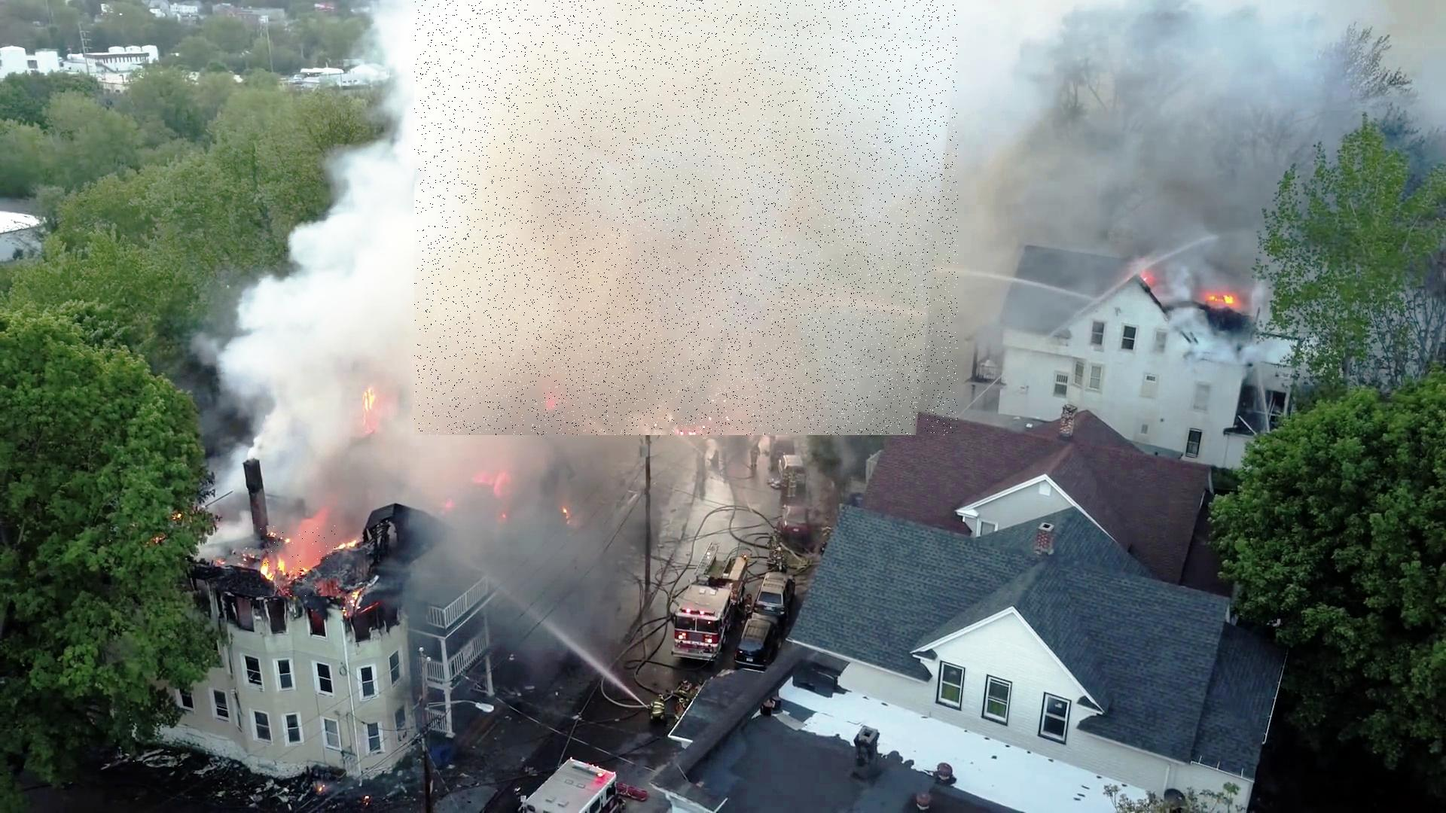fire: (261, 526, 336, 596)
smoke: (415, 0, 959, 435)
